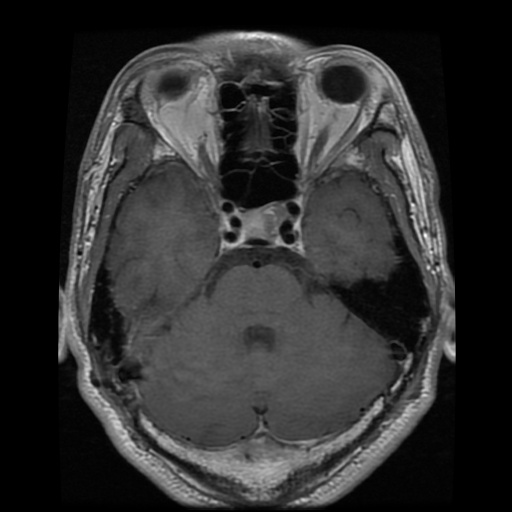pituitary: (237, 202, 287, 239)
